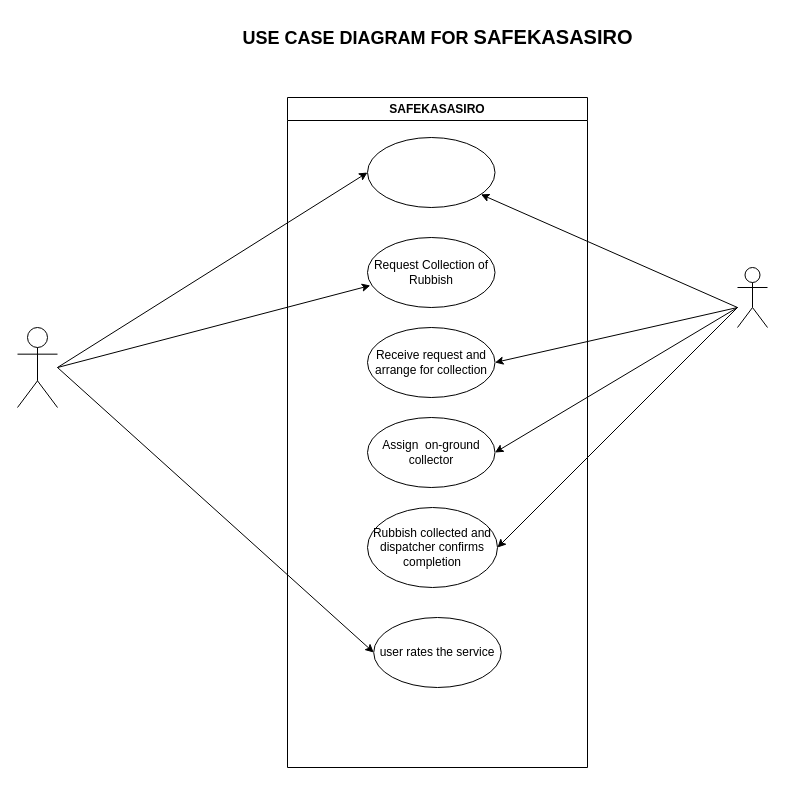
This 798x785 diagram has some shape labels left out. The centre of each missing label's shape, as x and y in pixels:
Dispatcher: (x=752, y=297)
Login: (x=430, y=172)
User: (x=37, y=367)
